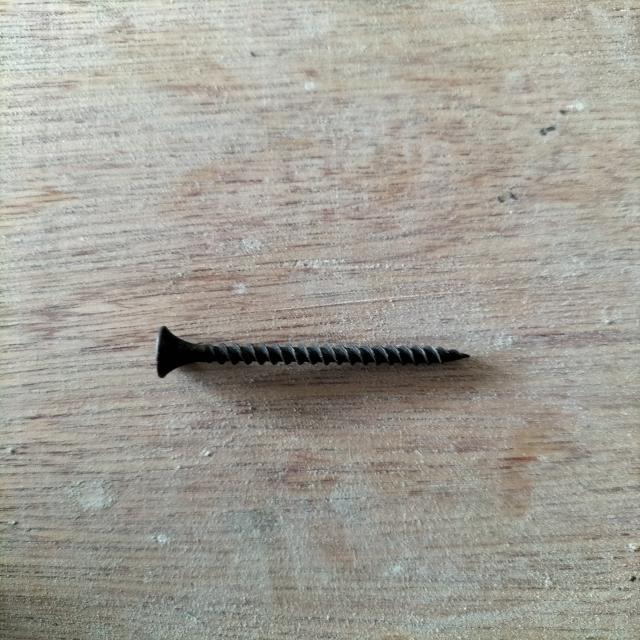screw: (154, 327, 472, 377)
